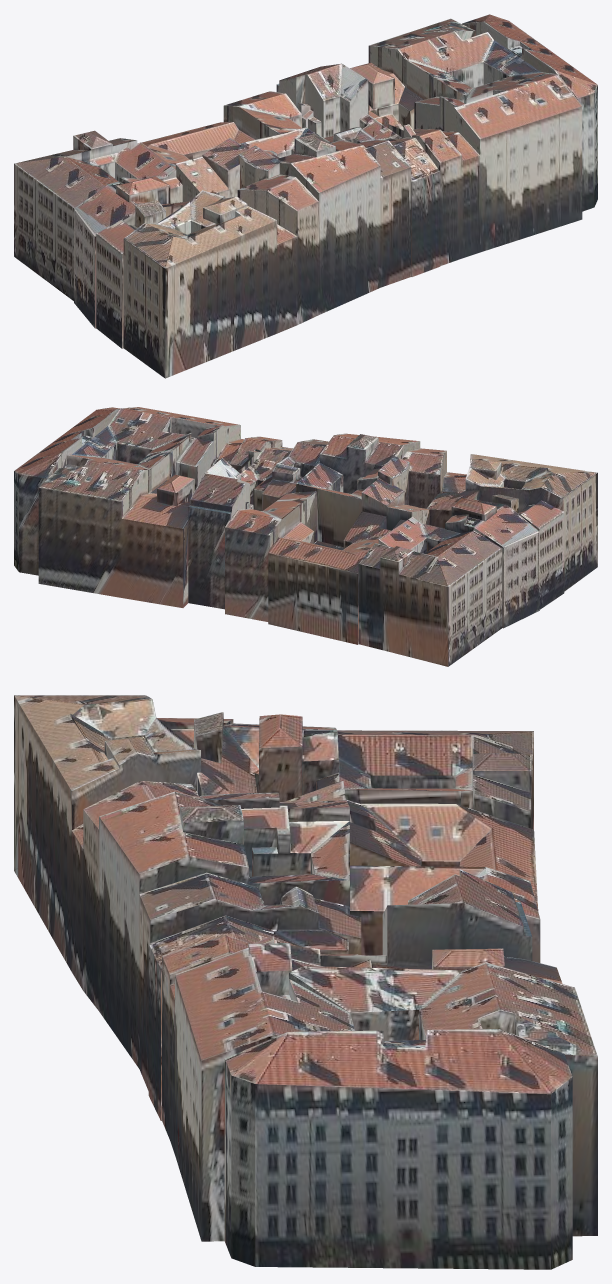
Rendered from LYON_1ER_00146.dae.
3 renders of one model, top to bottom at view 1: azimuth 30°, elevation 25°; view 2: azimuth 150°, elevation 25°; view 3: azimuth 270°, elevation 25°, orthographic. The views are drawn at different scales.
Bounding box in the file's own units: 109 × 67.08 × 29.11.
2 materials, 2 textured.
